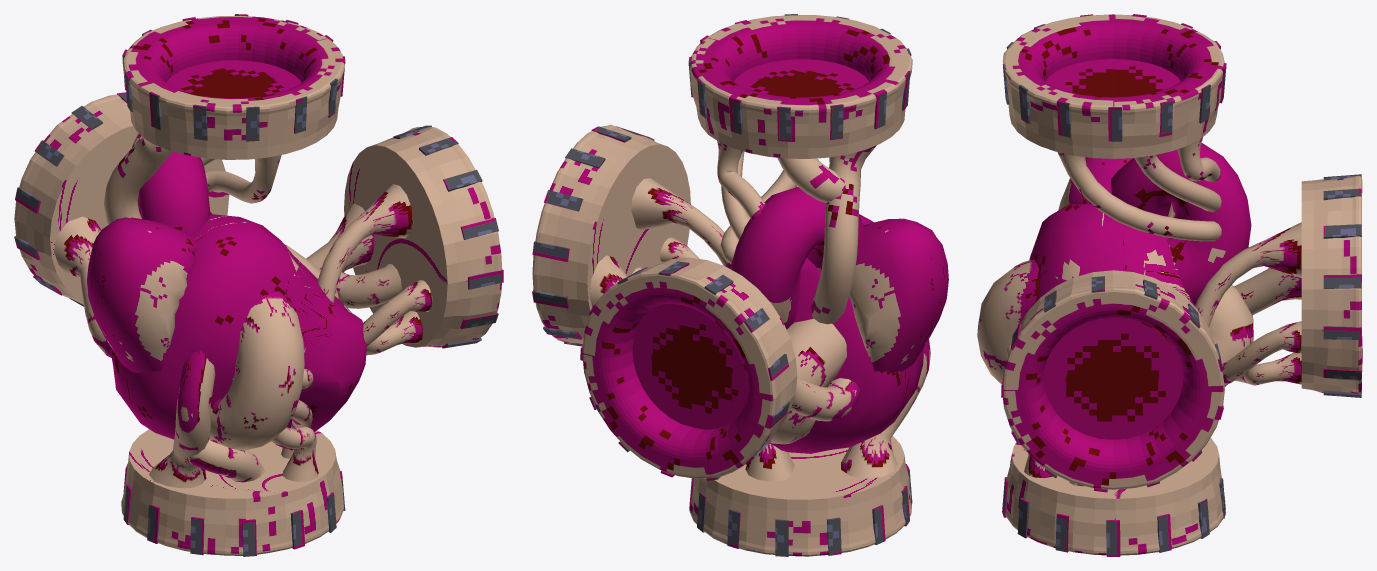
File: Blood Source.fbx
3 renders of one model, left to right at view 1: azimuth 30°, elevation 25°; view 2: azimuth 150°, elevation 25°; view 3: azimuth 270°, elevation 25°, orthographic.
Visible parts, largest first — view 1: top, heart, side1, bot, side3, lump, BézierCurve.008, BézierCurve.006, BézierCurve.026, BézierCurve.017, BézierCurve.024, BézierCurve.018 (+7 smaller); view 2: side3, top, side1, bot, lump, heart, BézierCurve.026, BézierCurve.024, BézierCurve.019, BézierCurve.017, BézierCurve.006, BézierCurve.018 (+7 smaller); view 3: side1, top, bot, side3, BézierCurve.026, heart, BézierCurve.008, BézierCurve.029, BézierCurve.022, BézierCurve.019, BézierCurve.021, BézierCurve.018 (+4 smaller).
Boxes of the visible parts, box(x1,y1,x2,y2) form: top: box(122, 14, 345, 159); heart: box(110, 214, 366, 439); side1: box(344, 125, 503, 348); bot: box(121, 429, 345, 556); side3: box(14, 92, 229, 306); lump: box(87, 217, 196, 373); BézierCurve.008: box(209, 291, 304, 450); BézierCurve.006: box(149, 350, 215, 488); BézierCurve.026: box(137, 151, 211, 235); BézierCurve.017: box(317, 184, 413, 302); BézierCurve.024: box(104, 137, 172, 224); BézierCurve.018: box(54, 216, 111, 357); side3: box(580, 257, 797, 480); top: box(688, 14, 912, 158); side1: box(532, 124, 690, 346); bot: box(689, 436, 912, 556); lump: box(849, 218, 948, 372); heart: box(726, 214, 923, 453); BézierCurve.026: box(730, 187, 864, 329); BézierCurve.024: box(811, 145, 876, 324); BézierCurve.019: box(770, 318, 846, 444); BézierCurve.017: box(631, 178, 728, 266); BézierCurve.006: box(841, 339, 930, 478); BézierCurve.018: box(790, 377, 859, 421); side1: box(1001, 270, 1224, 492); top: box(1002, 14, 1226, 158); bot: box(1002, 438, 1225, 556); side3: box(1301, 174, 1362, 397); BézierCurve.026: box(1111, 143, 1251, 304); heart: box(1029, 203, 1195, 306); BézierCurve.008: box(977, 259, 1039, 383); BézierCurve.029: box(1057, 152, 1221, 241); BézierCurve.022: box(1195, 222, 1301, 327); BézierCurve.019: box(1209, 285, 1253, 386); BézierCurve.021: box(1222, 321, 1301, 384); BézierCurve.018: box(1234, 267, 1301, 314).
Size of the model in its own units: 165 by 201 by 155.
